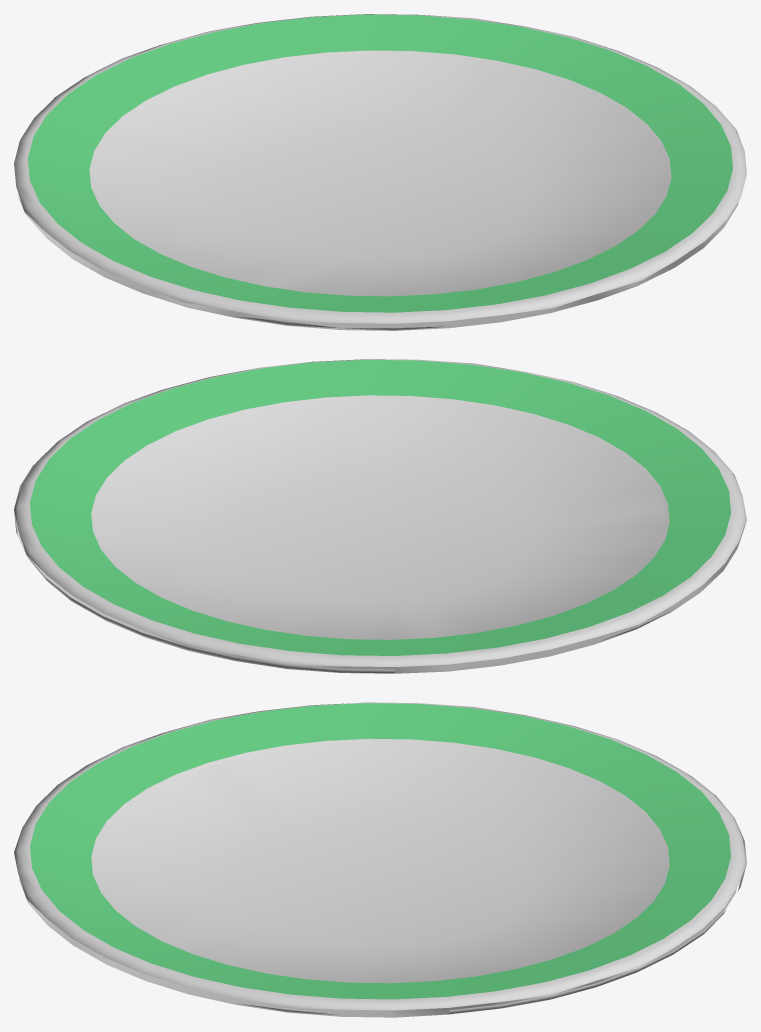
The model's file is J_PlateA_LOD2.obj.
3 views of the same model, one above another, from view 1: azimuth 30°, elevation 25°; view 2: azimuth 150°, elevation 25°; view 3: azimuth 270°, elevation 25° (orthographic).
Visible parts, largest first — view 1: J_PlateA_m0, J_PlateA_m1; view 2: J_PlateA_m0, J_PlateA_m1; view 3: J_PlateA_m0, J_PlateA_m1.
Part boxes in pixels (left/top/right/bottom): J_PlateA_m0: left=14, top=14, right=746, bottom=330; J_PlateA_m1: left=28, top=14, right=732, bottom=312; J_PlateA_m0: left=14, top=359, right=746, bottom=673; J_PlateA_m1: left=30, top=359, right=730, bottom=655; J_PlateA_m0: left=14, top=702, right=746, bottom=1017; J_PlateA_m1: left=30, top=703, right=730, bottom=999.
Size of the model in its own units: 0.2881 by 0.0192 by 0.2898.
